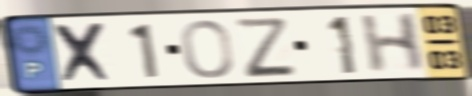1: (325, 13, 360, 76), (127, 21, 161, 80)
H: (358, 10, 427, 76)
O: (178, 18, 236, 81)
X: (50, 20, 118, 86)
Z: (230, 16, 299, 80)
